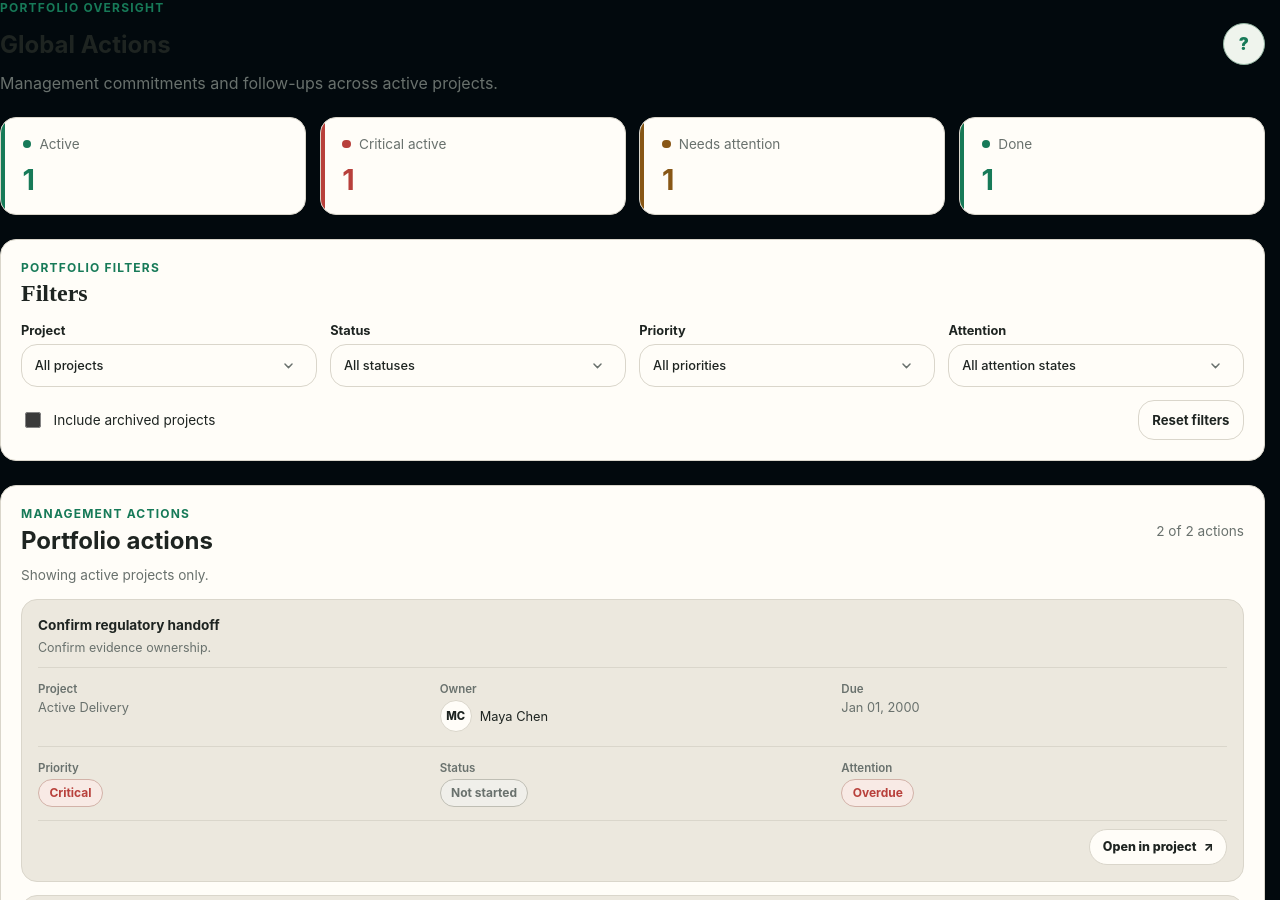
Test: GlobalActionsPage › includes archived projects on demand and scopes metrics by project
Check: the heading "Confirm regulatory handoff" is shown, box [38,617,220,633]
Click the checkbox labelled "Include archived projects": (33, 420) [25,412,41,428]
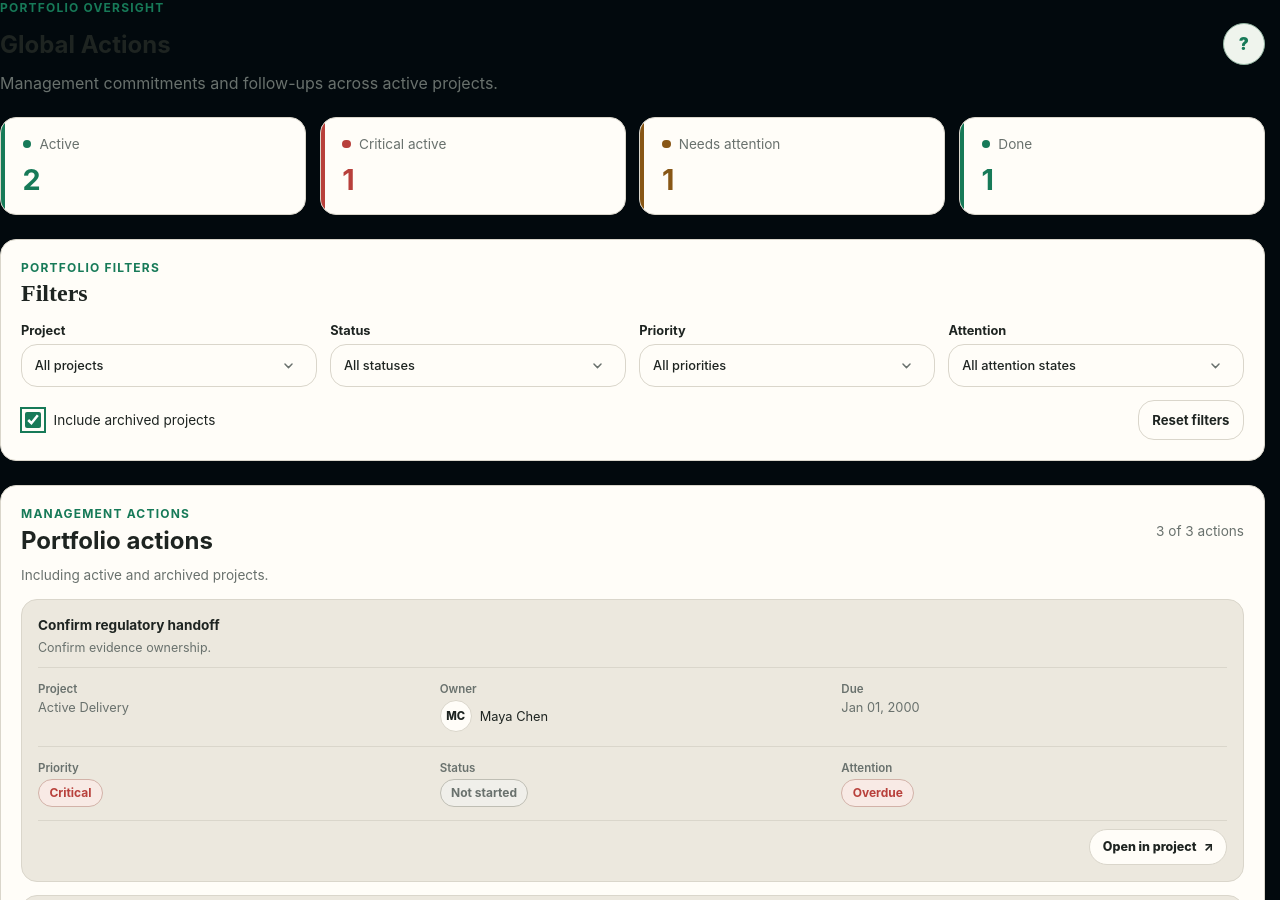
Select "Archived Delivery (Archived)" in the dropdown labelled "Project": (169, 366) [21,344,316,387]
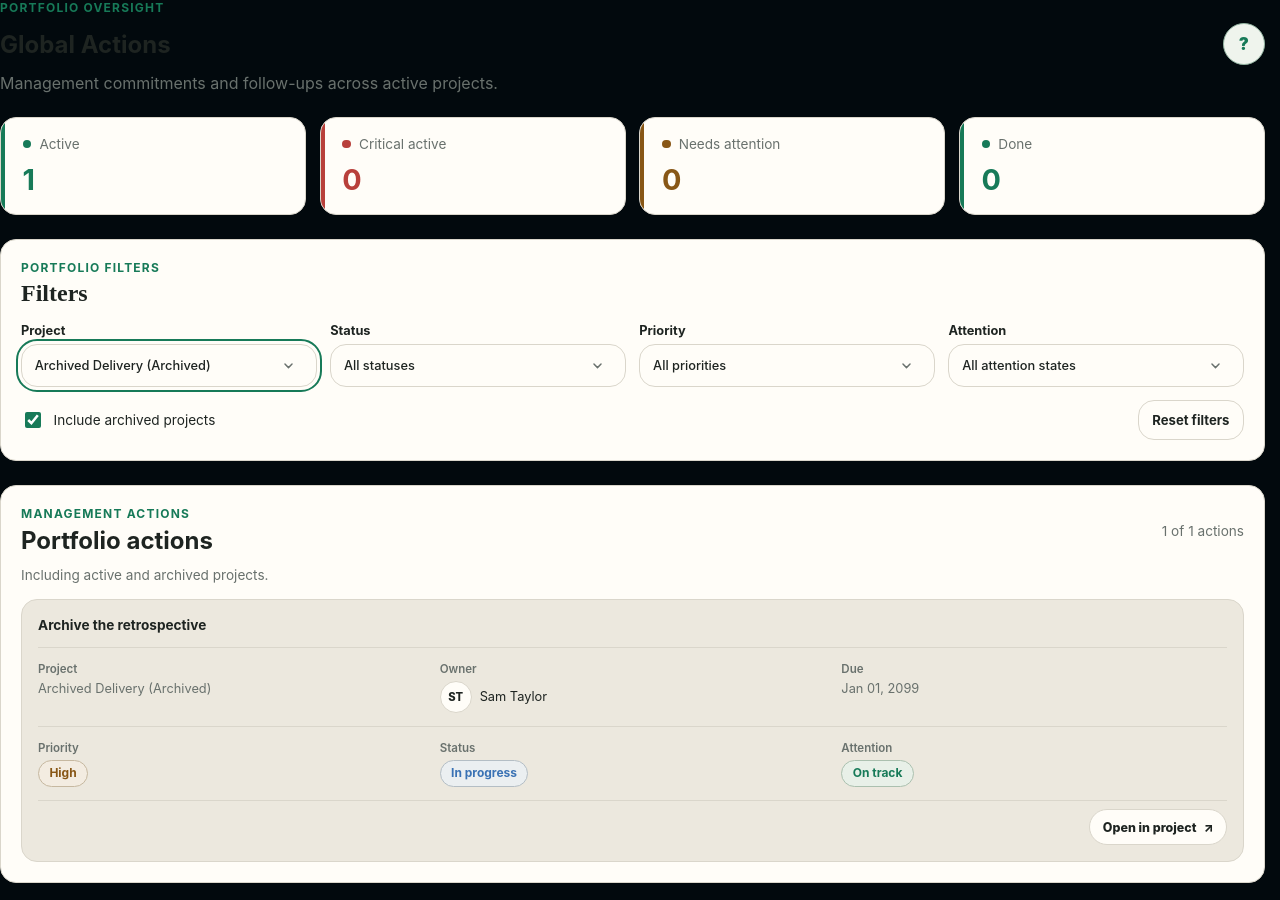
Check: the heading "Confirm regulatory handoff" is gone
Click the checkbox labelled "Include archived projects": (33, 420) [25,412,41,428]
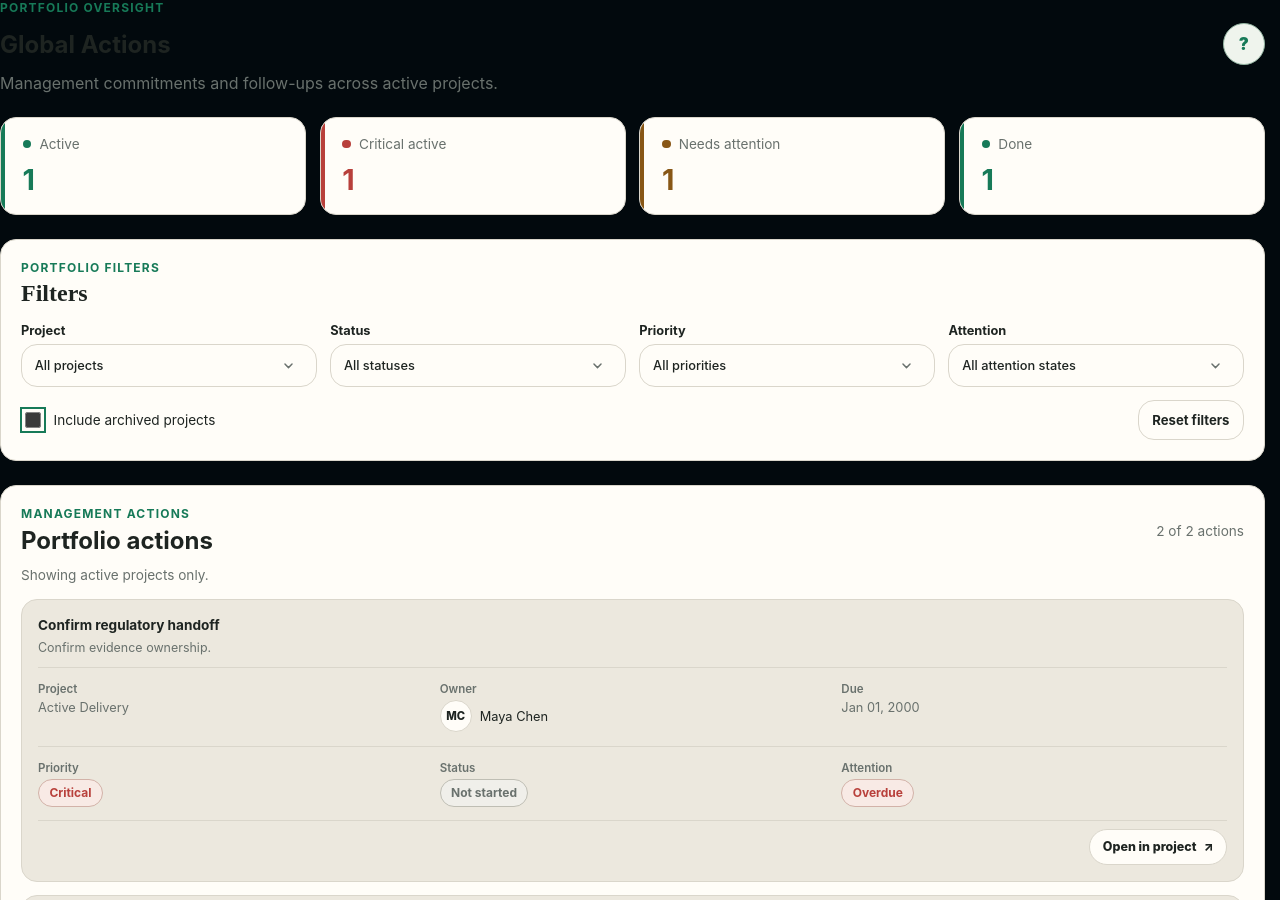
Check: the heading "Archive the retrospective" is gone
Check: the heading "Confirm regulatory handoff" is shown, box [38,617,220,633]
